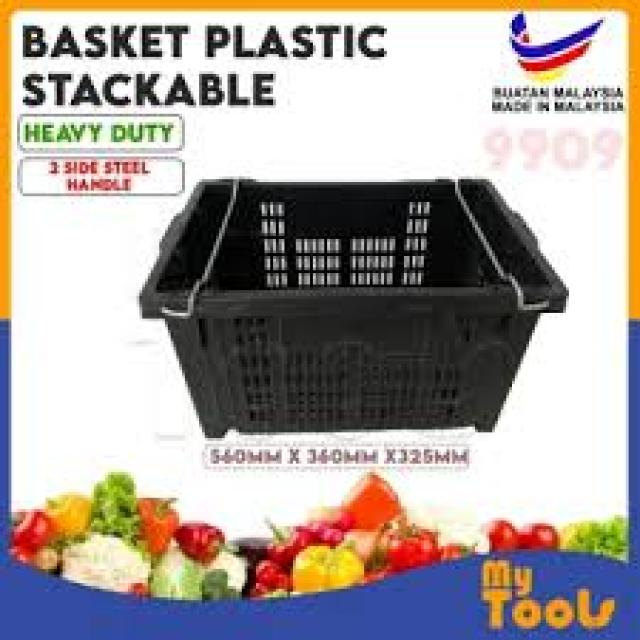basket: (139, 178, 570, 444)
